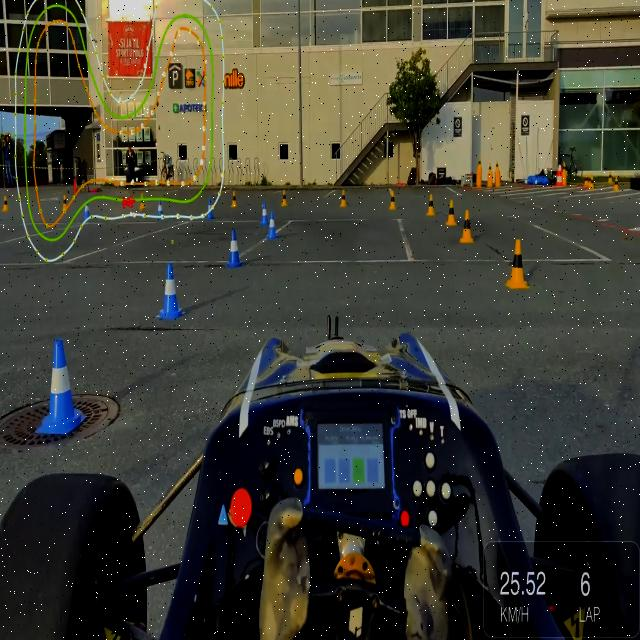blue_cone: (42, 336, 82, 434), (160, 262, 183, 320), (227, 228, 243, 270), (266, 210, 280, 240), (260, 202, 270, 226), (206, 200, 214, 220)
yellow_cone: (507, 238, 527, 288), (461, 209, 475, 243), (446, 200, 458, 226), (428, 195, 436, 217), (389, 191, 397, 211), (282, 188, 288, 208), (341, 190, 347, 208), (140, 193, 146, 210), (232, 192, 238, 208), (3, 195, 8, 212)
